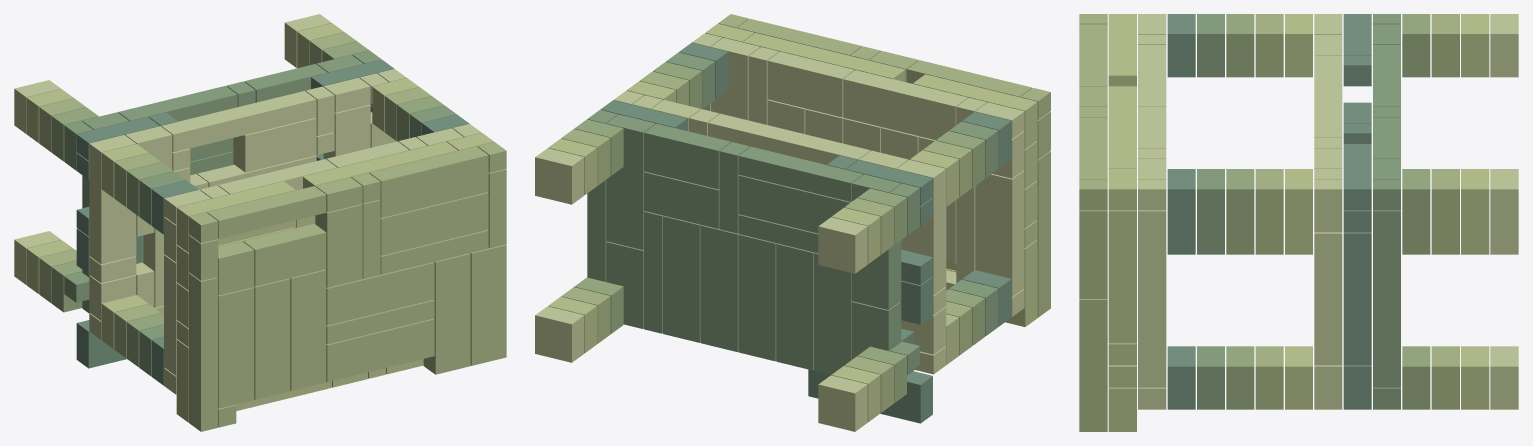
File: structure.glb
3 renders of one model, left to right at view 1: azimuth 30°, elevation 25°; view 2: azimuth 150°, elevation 25°; view 3: azimuth 270°, elevation 25°, orthographic. The views are drawn at different scales.
Parts seen in each view (by area): view 1: geometry_0; view 2: geometry_0; view 3: geometry_0.
Boxes of the visible parts, <box> form: geometry_0: <box>14,14,506,431</box>; geometry_0: <box>535,14,1050,431</box>; geometry_0: <box>1079,14,1518,431</box>.
Bounding box in the file's own units: 16.95 × 11.95 × 17.95.
